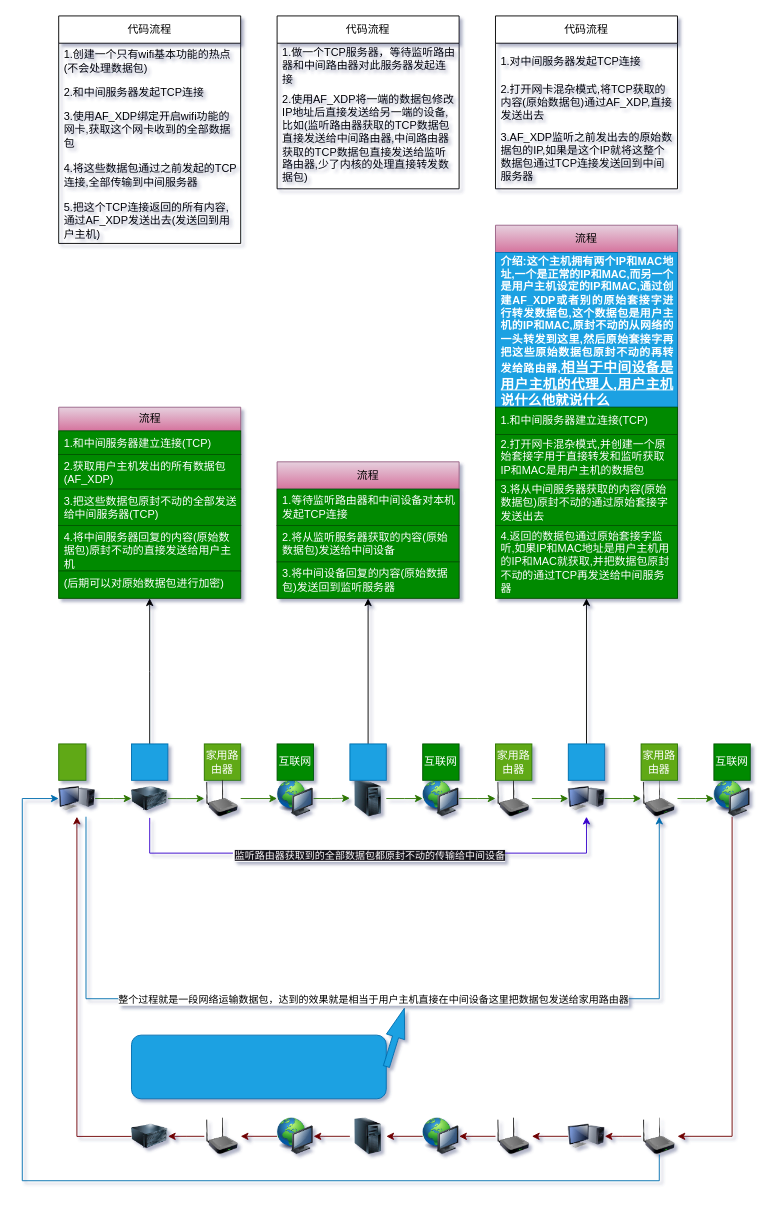
Some shapes in this 772 by 1209 pixel diagram are drawn without their labels. The shapes that lost their labels are listed below. From the top down, each one's centre as x and y in pixels, then its label:
At (x=72, y=761): "用户主机".
At (x=149, y=761): "监听路由器".
At (x=367, y=761): "中间服务器".
At (x=586, y=761): "中间设备".
At (x=258, y=1066): "简:用户主机说的话被中间设备录音下来放给别人听,别人说的话再被中间设备录音下来放给用户主机听,相当于用户主机直接和别人说话一样,就是有点延迟".
